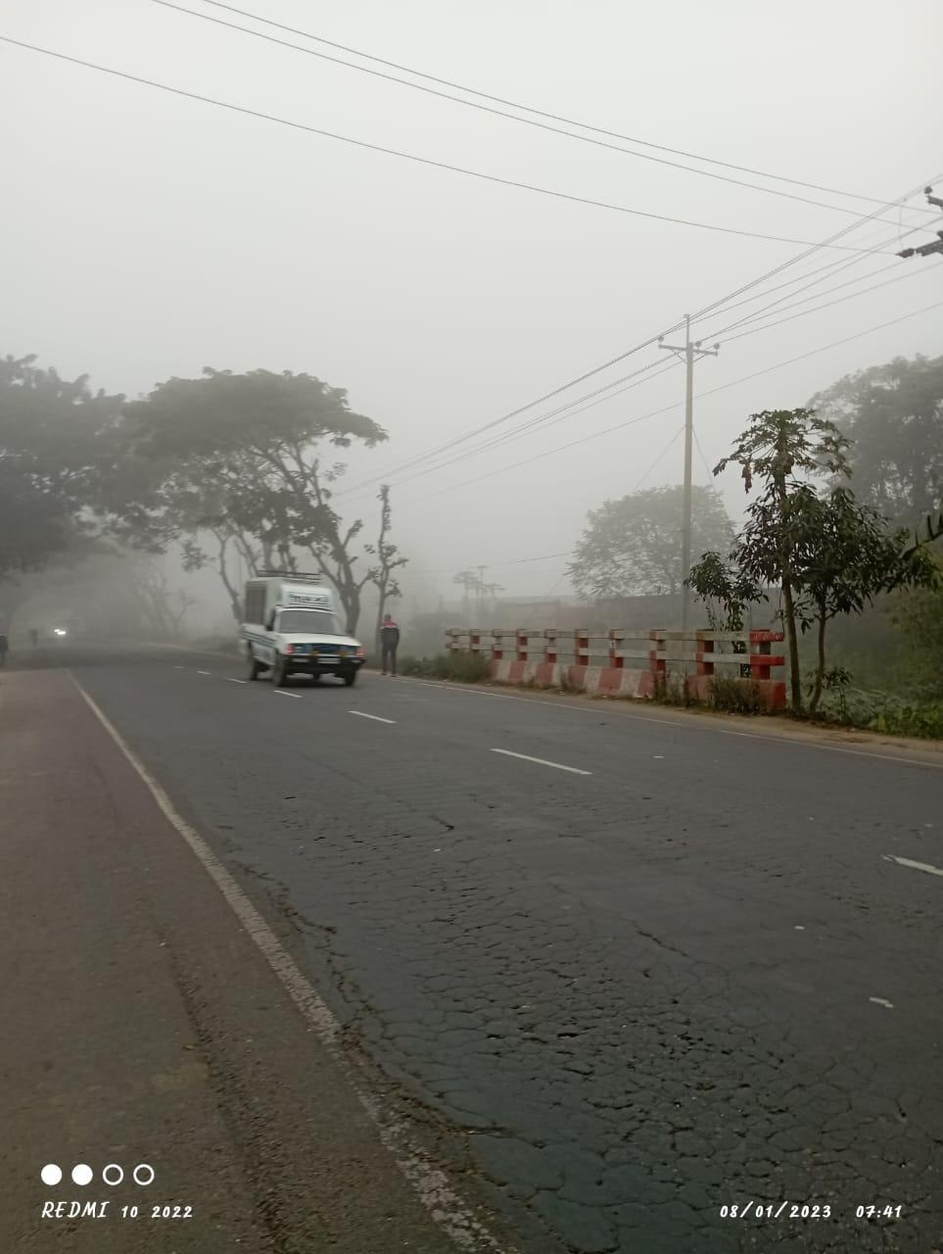Car: (228, 559, 376, 691)
